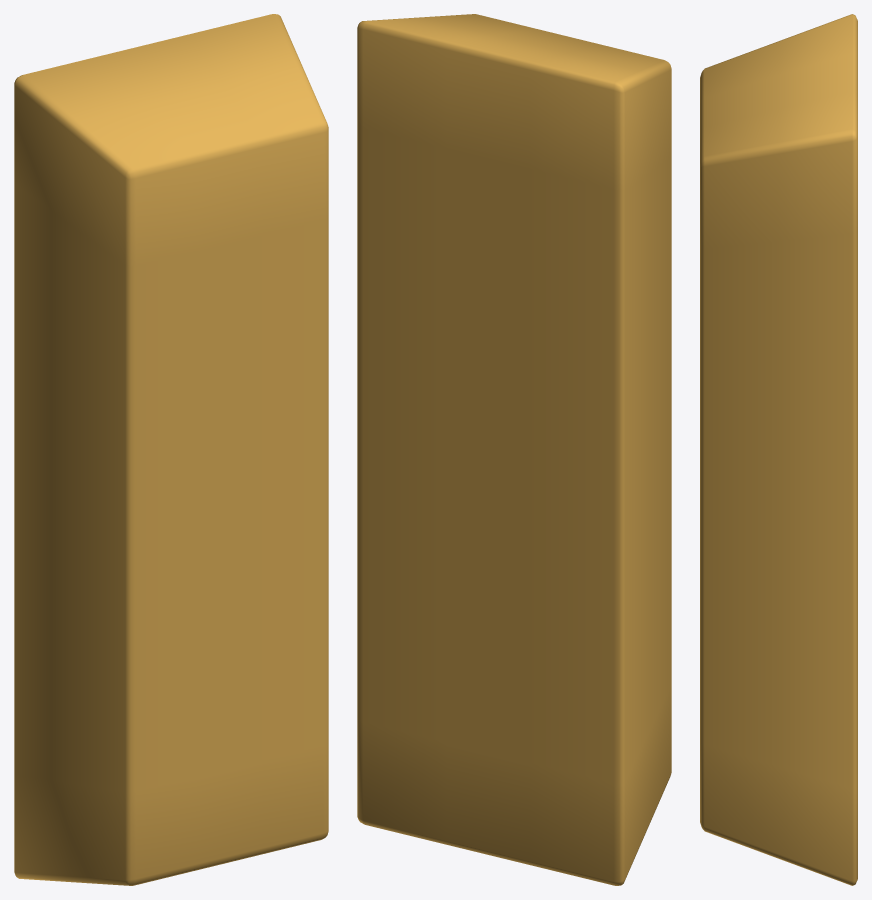
The model's file is gold_bar_0001.fbx.
3 views of the same model, side by side, from view 1: azimuth 30°, elevation 25°; view 2: azimuth 150°, elevation 25°; view 3: azimuth 270°, elevation 25° (orthographic). The views are drawn at different scales.
Parts seen in each view (by area): view 1: Gold Bar; view 2: Gold Bar; view 3: Gold Bar.
Part boxes in pixels (bbox=[...]): Gold Bar: bbox=[14, 14, 328, 885]; Gold Bar: bbox=[357, 14, 671, 885]; Gold Bar: bbox=[700, 14, 857, 885].
Size of the model in its own units: 9.46 by 27.2 by 5.15.
